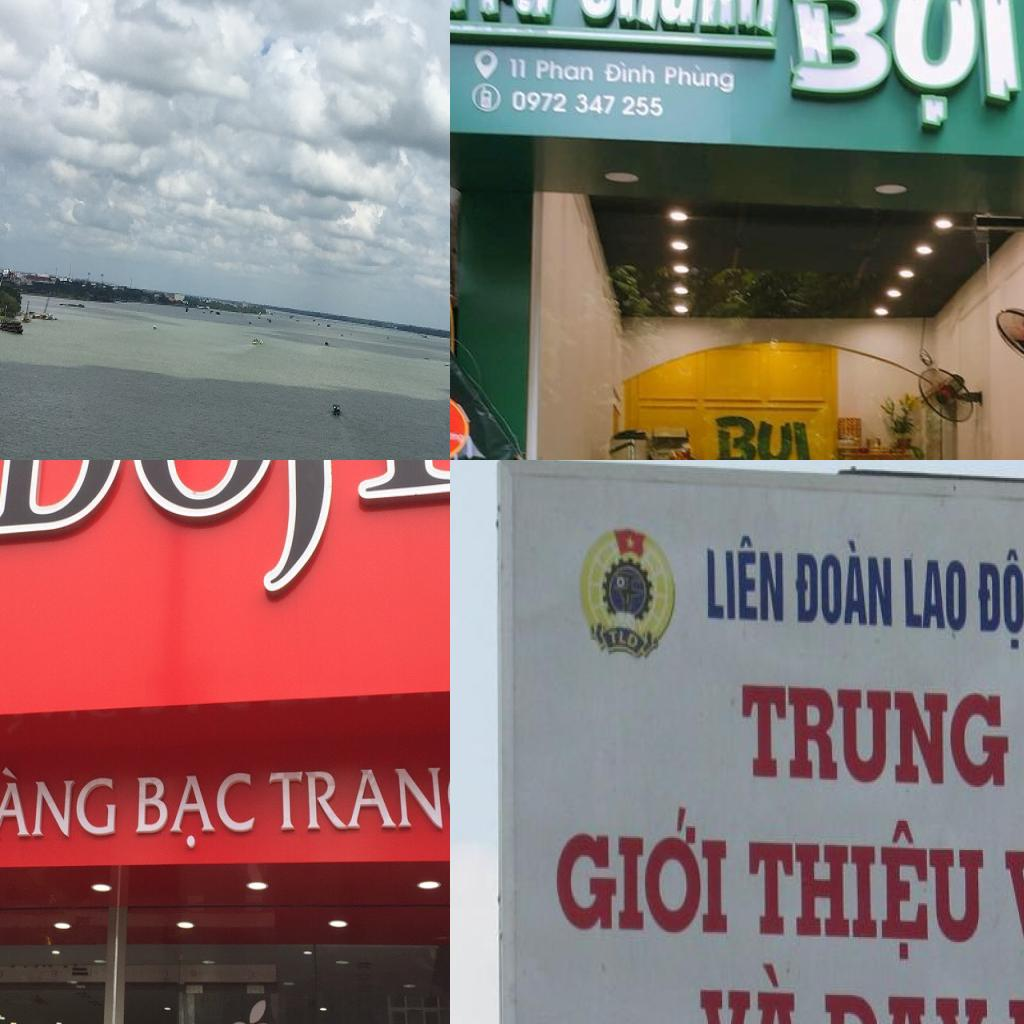text: (0, 460, 450, 640), (746, 814, 986, 964), (779, 0, 1022, 132), (740, 681, 1011, 790), (550, 807, 730, 939), (268, 761, 450, 837), (130, 770, 256, 850), (794, 539, 896, 630), (0, 767, 121, 843), (703, 529, 787, 625), (573, 0, 777, 39), (691, 959, 811, 1024), (820, 988, 989, 1024), (708, 410, 818, 460), (507, 88, 665, 122), (903, 555, 969, 633), (978, 546, 1024, 652), (450, 0, 568, 27), (661, 61, 738, 94), (532, 56, 596, 86), (600, 61, 656, 83), (606, 626, 642, 654), (502, 57, 528, 82), (450, 427, 467, 446)
